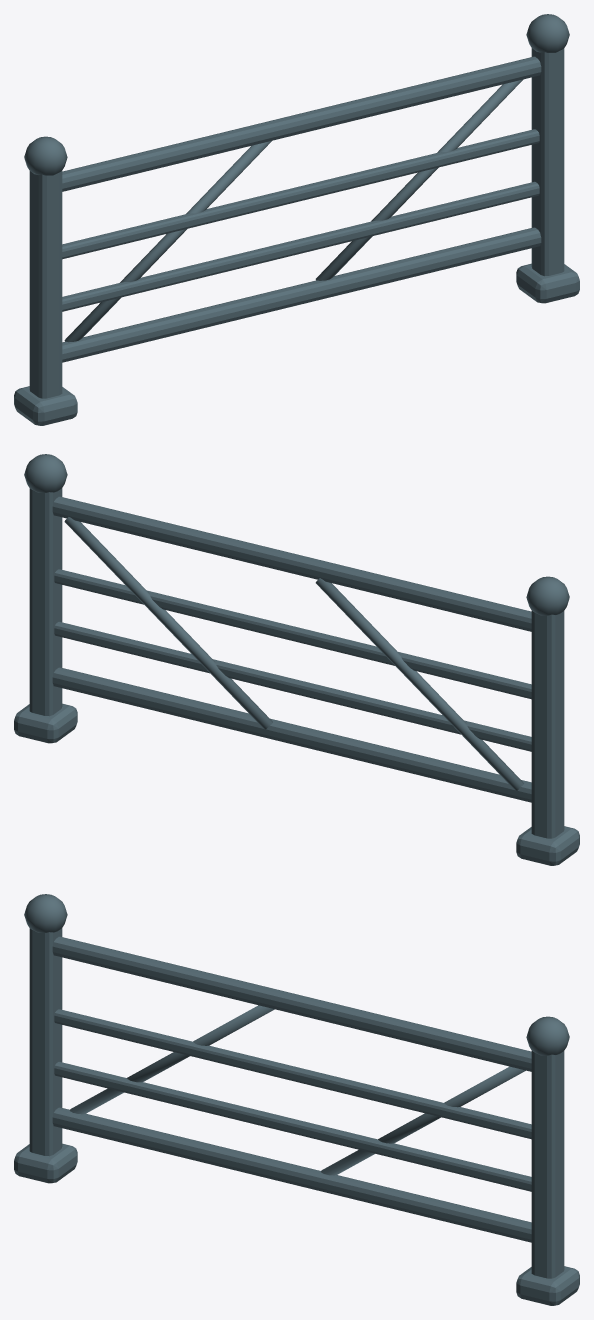
File: RailingBridge.glb
3 renders of one model, top to bottom at view 1: azimuth 30°, elevation 25°; view 2: azimuth 150°, elevation 25°; view 3: azimuth 330°, elevation 25°, orthographic.
Parts seen in each view (by area): view 1: RK_RailingBridge_RailingBridge_Paint; view 2: RK_RailingBridge_RailingBridge_Paint; view 3: RK_RailingBridge_RailingBridge_Paint.
Part boxes in pixels (x1,y1,x2,y2): RK_RailingBridge_RailingBridge_Paint: (14, 14, 579, 425); RK_RailingBridge_RailingBridge_Paint: (14, 454, 579, 865); RK_RailingBridge_RailingBridge_Paint: (14, 894, 579, 1305).
Bounding box in the file's own units: 2.61 × 1.26 × 0.22.
